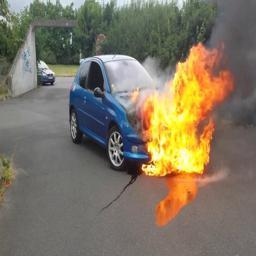fire: (133, 44, 235, 177)
